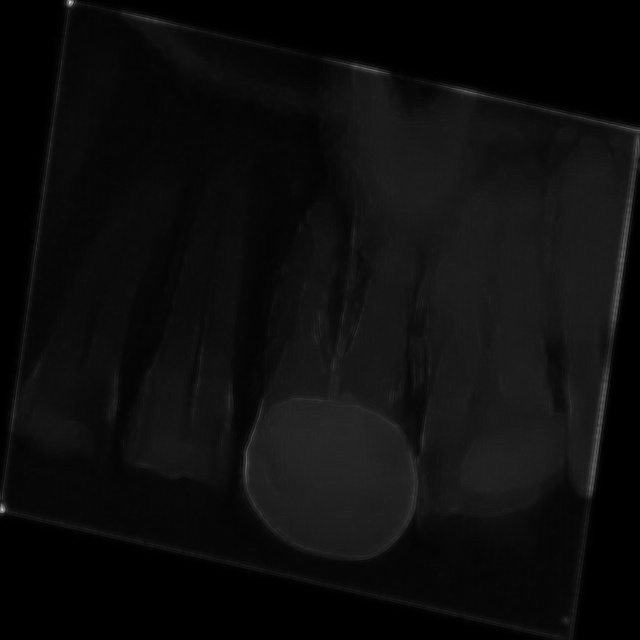Class 2- incomplete endodontic treatment: (220, 124, 462, 580)
